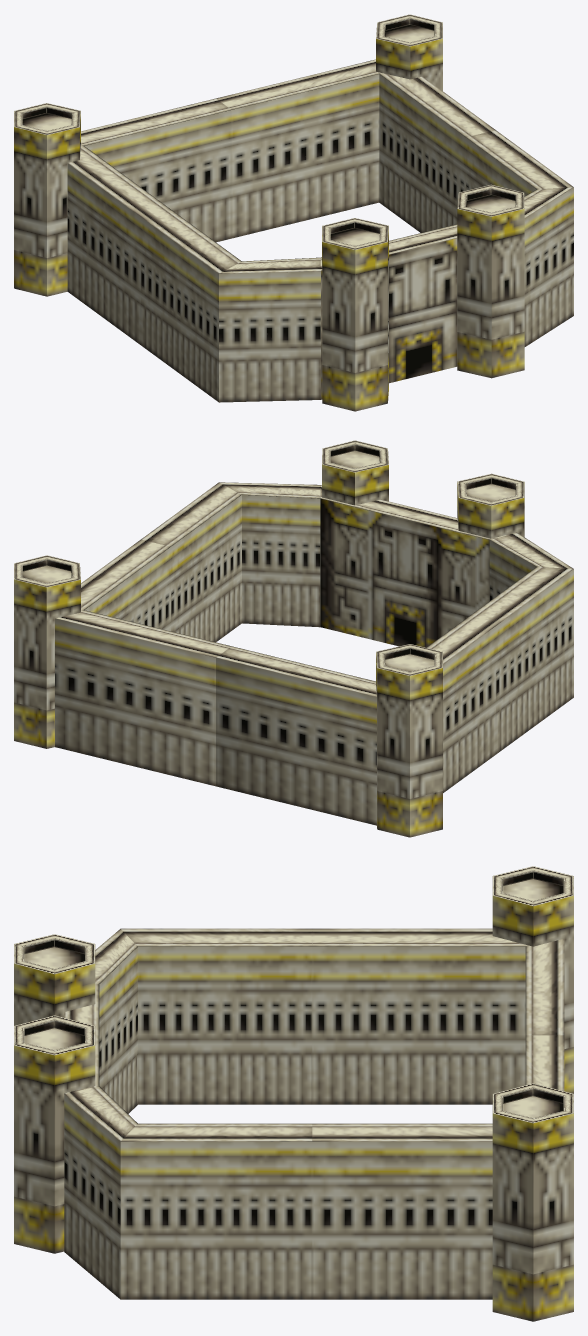
Rendered from Poly_World_Map_Castle_Special_01_Wall.obj.
The picture shows the model from 3 angles, top to bottom: view 1: azimuth 30°, elevation 25°; view 2: azimuth 150°, elevation 25°; view 3: azimuth 270°, elevation 25°; orthographic projection. The views are drawn at different scales.
Visible parts, largest first — view 1: Grid, Grid.001; view 2: Grid, Grid.001; view 3: Grid, Grid.001.
Boxes of the visible parts, box(x1,y1,x2,y2) form: Grid: box(67, 59, 573, 402); Grid.001: box(14, 14, 524, 411); Grid: box(55, 482, 573, 825); Grid.001: box(14, 440, 524, 837); Grid: box(64, 928, 564, 1299); Grid.001: box(14, 866, 573, 1321).
Size of the model in its own units: 3.14 by 1.13 by 2.89.
Materials: 1 (1 with a texture image).
